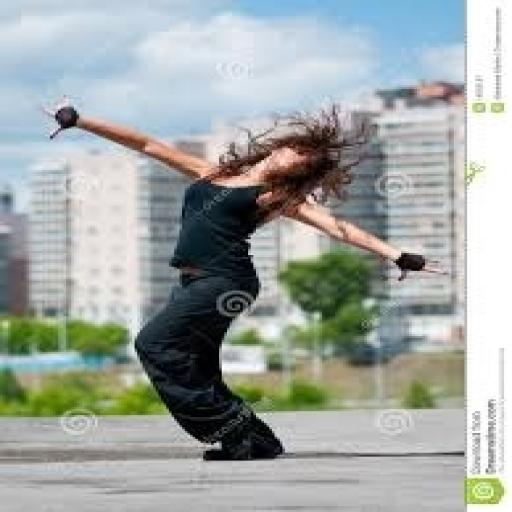dancing: (45, 97, 449, 462)
